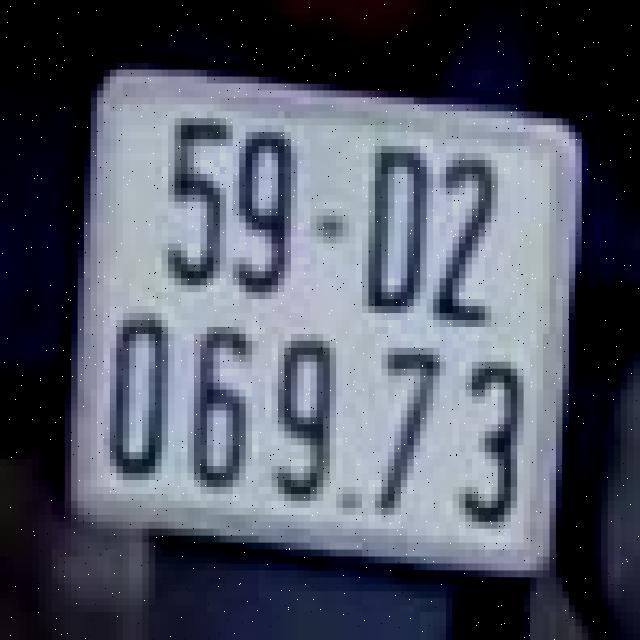0: (94, 299, 171, 487)
2: (440, 146, 510, 334)
3: (449, 344, 534, 560)
5: (158, 104, 236, 306)
6: (178, 310, 262, 504)
7: (372, 334, 443, 536)
9: (272, 324, 342, 518), (236, 118, 301, 306)
D: (356, 125, 433, 320)
